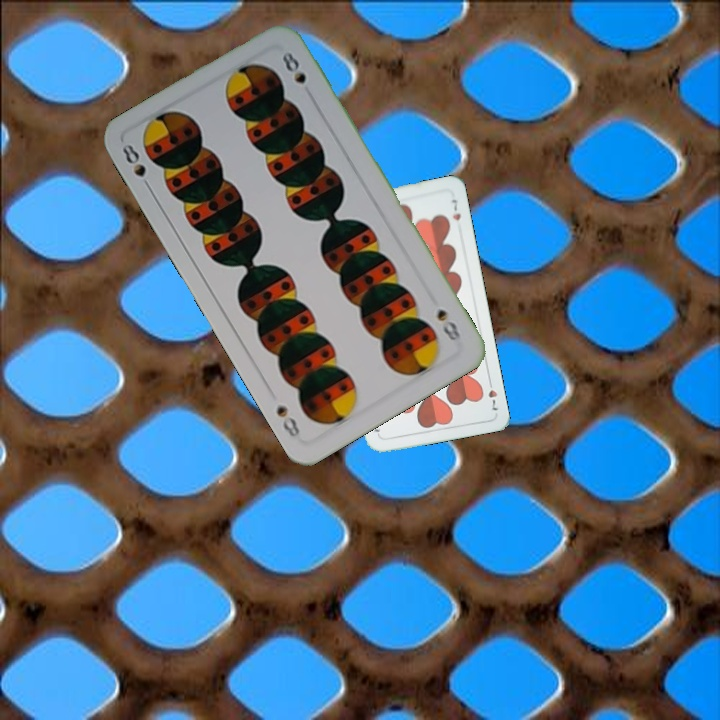H7: (484, 375, 501, 414)
S8: (118, 140, 155, 194), (432, 304, 464, 344)
